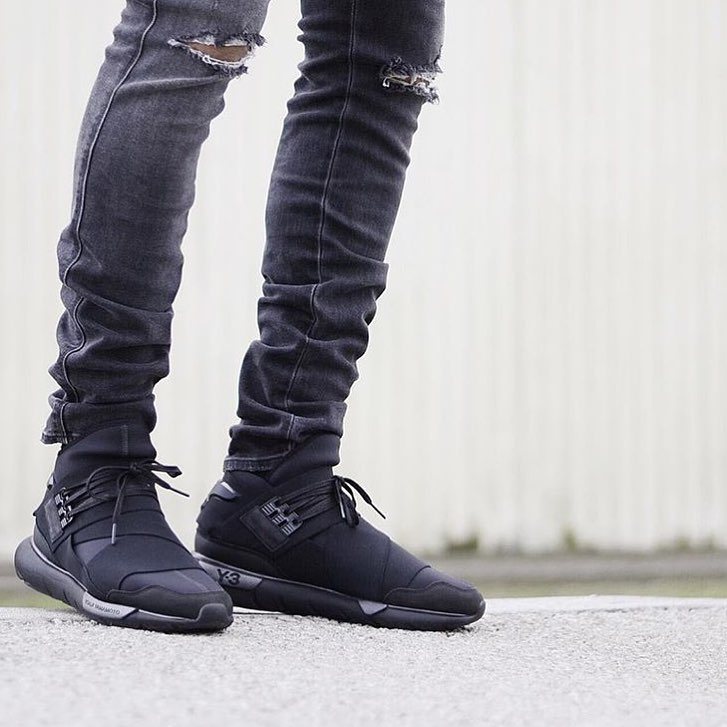sneaker: (173, 439, 493, 649), (1, 398, 239, 651)
